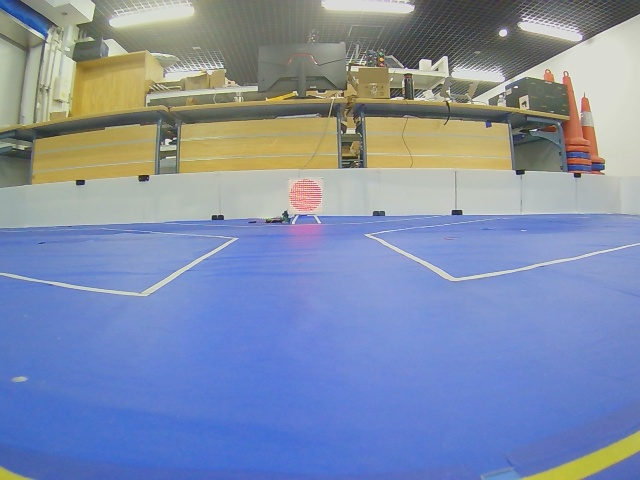red: (289, 179, 323, 214)
